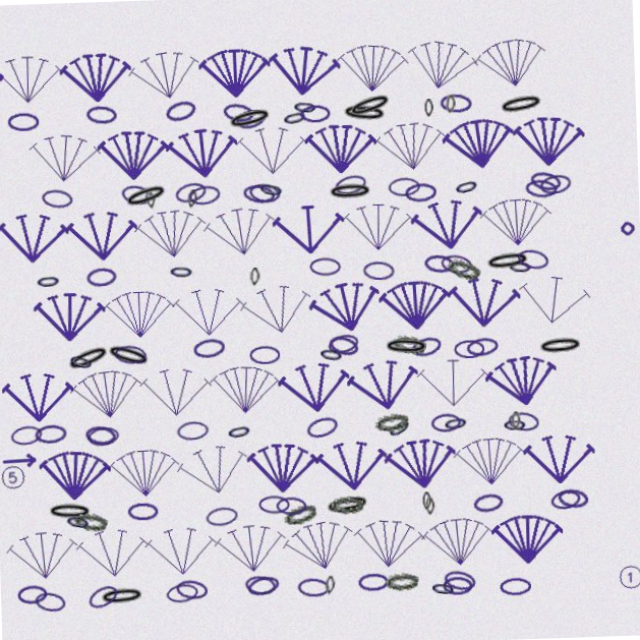chain: (70, 333, 118, 366), (355, 95, 403, 126), (109, 333, 157, 364), (132, 177, 180, 207), (237, 106, 284, 133), (504, 102, 551, 127), (320, 490, 367, 514), (83, 569, 118, 599), (278, 496, 315, 524), (350, 107, 396, 129), (486, 257, 532, 279), (447, 261, 484, 288), (96, 574, 142, 595), (535, 343, 581, 363), (328, 333, 362, 359), (304, 412, 338, 438), (334, 185, 379, 204), (384, 339, 429, 358), (48, 490, 93, 509), (382, 414, 412, 442), (176, 97, 209, 122), (410, 337, 443, 362), (183, 178, 217, 202), (340, 176, 374, 200), (517, 255, 551, 279), (241, 567, 275, 591), (434, 568, 468, 592), (392, 335, 427, 358), (372, 411, 407, 434), (245, 108, 278, 132), (532, 179, 565, 203), (328, 332, 361, 356), (73, 499, 108, 521), (130, 179, 163, 202), (442, 258, 475, 281), (233, 102, 265, 125), (32, 576, 64, 599), (52, 181, 85, 203), (197, 182, 230, 204), (256, 182, 289, 204), (250, 183, 283, 205), (542, 183, 575, 205), (14, 412, 47, 434), (171, 569, 204, 591), (503, 415, 535, 437), (466, 494, 498, 516), (542, 493, 574, 515), (549, 492, 581, 514), (239, 567, 271, 589), (72, 341, 101, 365), (196, 333, 229, 354), (203, 499, 236, 520), (326, 492, 360, 512), (377, 569, 411, 589), (119, 337, 151, 358), (465, 341, 497, 362), (87, 415, 119, 436), (90, 416, 122, 437), (162, 573, 194, 594), (426, 258, 457, 279), (457, 182, 485, 205), (447, 101, 479, 121), (528, 188, 560, 208), (366, 263, 398, 283), (178, 414, 210, 434), (291, 572, 323, 592), (99, 101, 130, 121), (94, 260, 125, 280), (265, 179, 293, 201), (64, 499, 92, 521), (38, 413, 70, 432), (291, 109, 318, 131), (319, 343, 346, 365), (410, 188, 441, 207), (394, 182, 425, 201), (314, 258, 345, 277), (256, 490, 287, 509), (428, 415, 458, 434), (273, 492, 303, 511), (16, 570, 46, 589), (226, 416, 253, 437), (439, 415, 466, 436), (421, 577, 448, 598), (22, 106, 53, 124), (490, 579, 521, 597), (310, 108, 340, 126), (252, 343, 282, 361), (453, 344, 483, 362), (127, 493, 157, 511), (351, 570, 381, 588), (434, 576, 464, 594), (302, 100, 328, 120), (508, 264, 534, 284), (44, 263, 70, 282), (175, 258, 201, 277), (498, 420, 523, 438), (154, 186, 166, 205), (195, 187, 207, 206), (318, 571, 329, 590), (453, 103, 463, 121), (255, 266, 265, 284), (432, 106, 441, 124), (507, 416, 516, 434), (420, 497, 429, 515), (417, 492, 426, 510)
fan: (411, 41, 490, 106), (309, 275, 388, 340), (275, 509, 354, 574), (174, 432, 252, 495), (140, 43, 217, 105), (242, 277, 319, 339), (481, 43, 557, 104), (515, 277, 591, 338), (345, 355, 421, 416), (277, 44, 353, 104), (209, 200, 285, 260), (481, 356, 557, 416), (447, 122, 522, 181), (73, 356, 148, 415), (40, 123, 114, 181), (380, 123, 454, 181), (142, 201, 216, 259), (414, 201, 488, 259), (380, 435, 454, 493), (278, 357, 352, 414), (210, 513, 284, 570), (346, 513, 420, 570), (176, 123, 249, 180), (448, 279, 521, 336), (6, 513, 79, 570), (346, 46, 419, 102), (40, 436, 113, 492), (414, 514, 487, 570), (517, 124, 589, 179), (7, 202, 79, 257), (211, 358, 283, 413), (245, 436, 317, 491), (313, 436, 385, 491), (75, 514, 147, 569), (75, 47, 146, 101), (313, 125, 384, 179), (279, 203, 350, 257), (347, 203, 418, 257), (483, 203, 554, 257), (41, 281, 112, 335), (381, 281, 452, 335), (109, 437, 180, 491), (449, 437, 520, 491), (143, 515, 214, 569), (109, 125, 180, 178), (143, 359, 214, 412), (8, 47, 78, 100), (246, 125, 316, 178), (76, 203, 146, 256), (416, 359, 486, 412), (484, 515, 554, 568), (212, 48, 282, 100), (110, 282, 180, 334), (178, 282, 248, 334), (8, 360, 78, 412), (518, 438, 588, 490)
noise: (2, 450, 30, 478), (606, 569, 632, 595), (5, 440, 41, 455), (620, 232, 636, 248), (0, 65, 22, 76)
